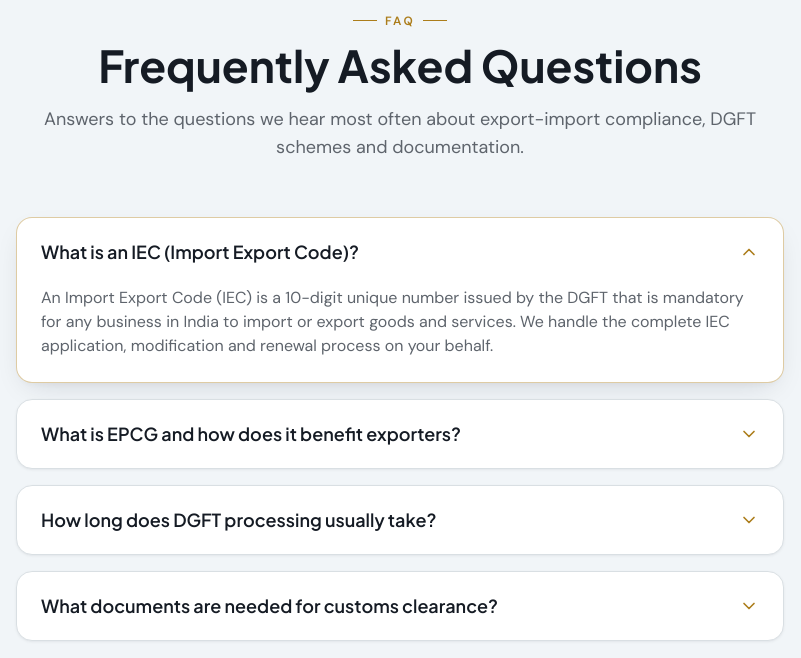
FAQ — accordion › renders the first question open by default and toggles on click
# Collapse the first item.
Click the button "What is an IEC (Import Export Code)?": [200, 251] box [17, 218, 783, 286]
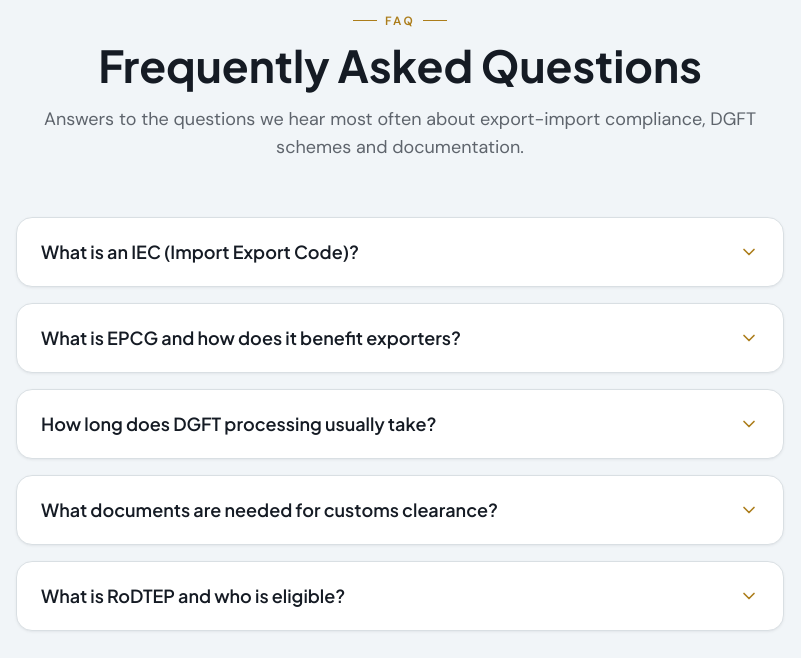
Now the button "What is an IEC (Import Export Code)?" is collapsed
# Re-open it.
Click the button "What is an IEC (Import Export Code)?": [200, 251] box [17, 218, 783, 286]
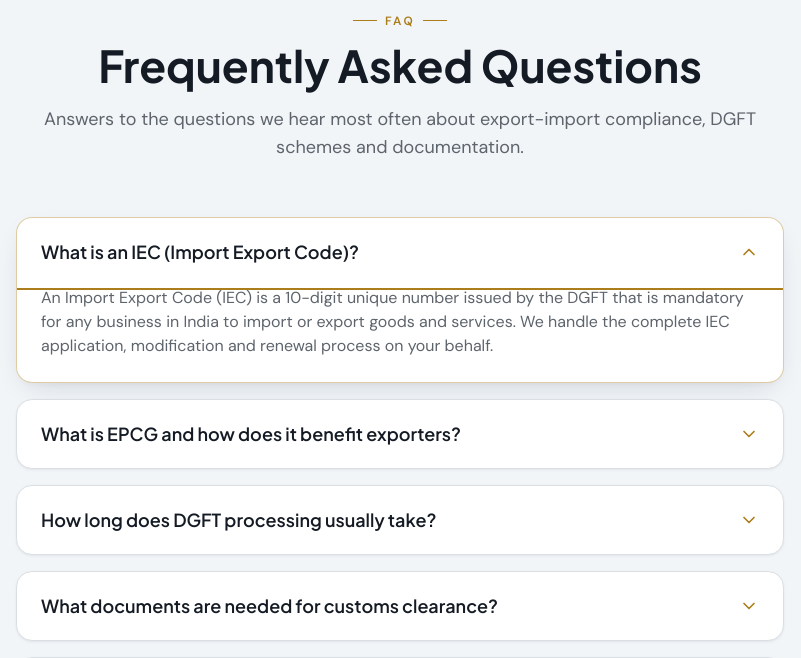
Now the button "What is an IEC (Import Export Code)?" is expanded, box [17, 218, 783, 286]
